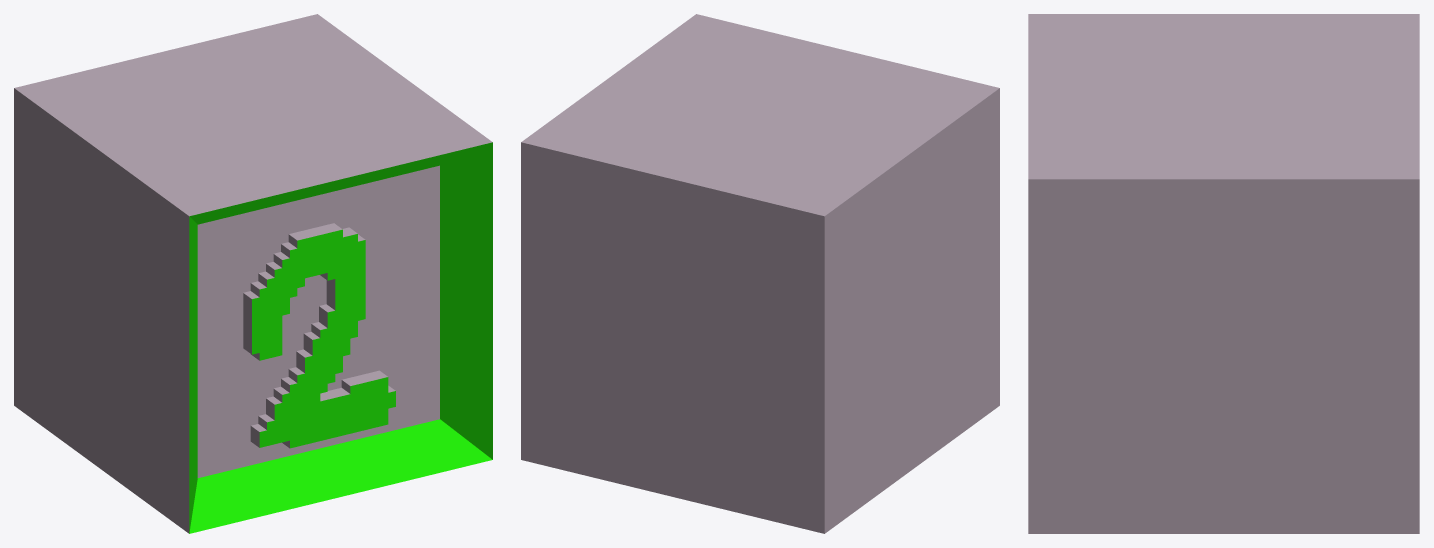
The model's file is Block2.fbx.
3 renders of one model, left to right at view 1: azimuth 30°, elevation 25°; view 2: azimuth 150°, elevation 25°; view 3: azimuth 270°, elevation 25°, orthographic. The views are drawn at different scales.
Visible parts, largest first — view 1: Cube; view 2: Cube; view 3: Cube.
Part boxes in pixels (x1,y1,x2,y2): Cube: (14, 14, 492, 533); Cube: (521, 14, 999, 533); Cube: (1028, 14, 1419, 533).
Bounding box in the file's own units: 2000 × 2000 × 2000.
